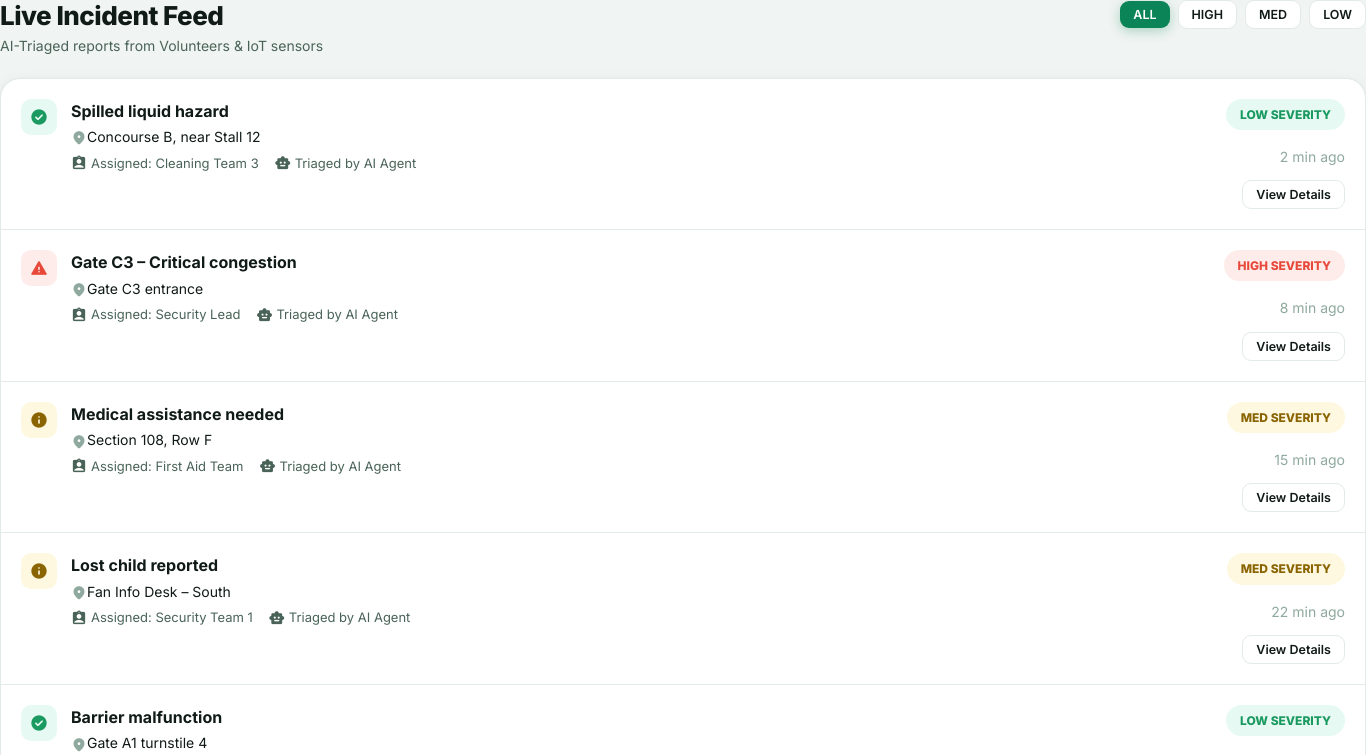
Test: IncidentFeed Component › filters to HIGH severity incidents only
Step 1. Click the button "HIGH" → click(1207, 14), box [1178, 0, 1237, 29]
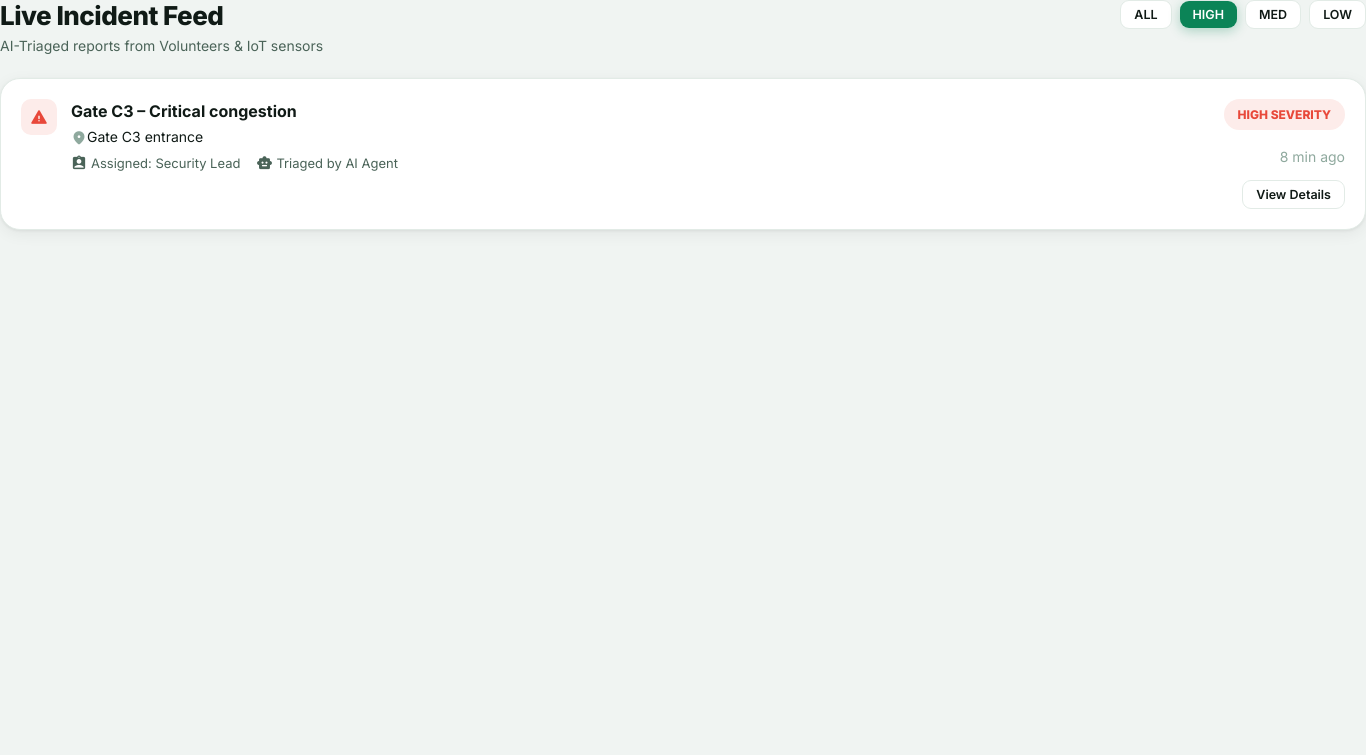
Expected: the heading "Gate C3 – Critical congestion" is shown, [71, 101, 297, 121]
Expected: the heading "Spilled liquid hazard" is gone
Expected: the heading "Lost child reported" is gone
